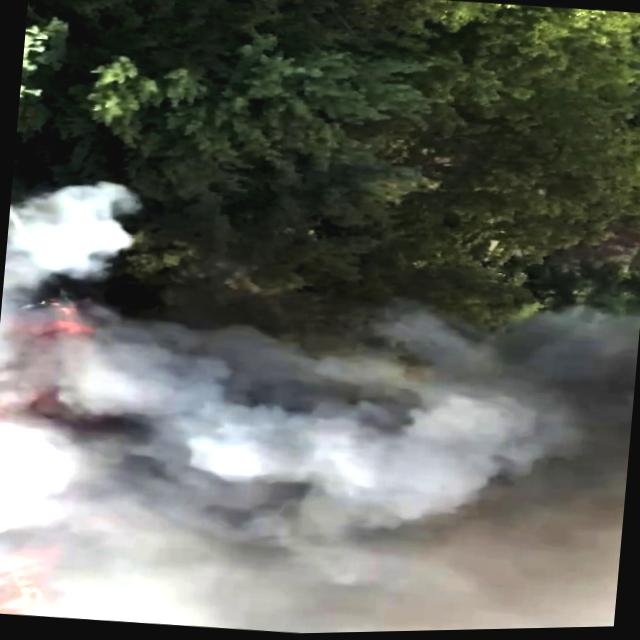smoke: (157, 338, 635, 637)
